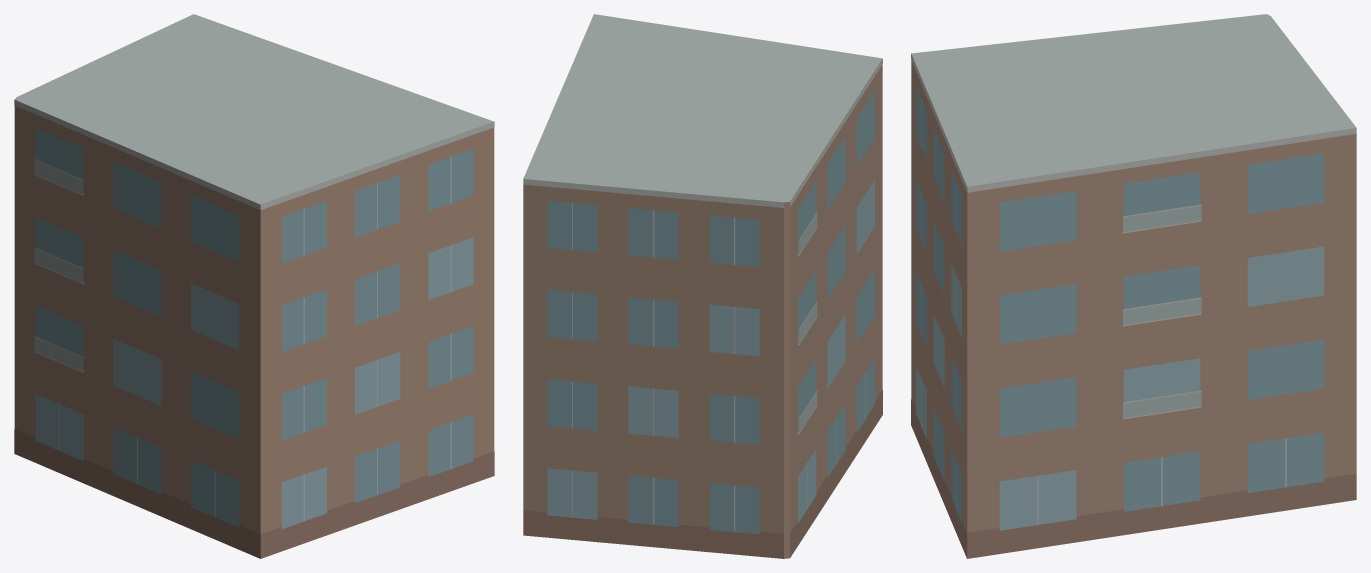
Rendered from survey-upis-32676466.glb.
3 renders of one model, left to right at view 1: azimuth 30°, elevation 25°; view 2: azimuth 150°, elevation 25°; view 3: azimuth 270°, elevation 25°, orthographic. The views are drawn at different scales.
Visible parts, largest first — view 1: survey-upis-32676466.tmp; view 2: survey-upis-32676466.tmp; view 3: survey-upis-32676466.tmp.
Boxes of the visible parts, x1=… form: survey-upis-32676466.tmp: x1=14, y1=14, x2=494, y2=558; survey-upis-32676466.tmp: x1=523, y1=14, x2=882, y2=558; survey-upis-32676466.tmp: x1=911, y1=14, x2=1356, y2=558.
Size of the model in its own units: 15.26 by 15.3 by 16.61.
